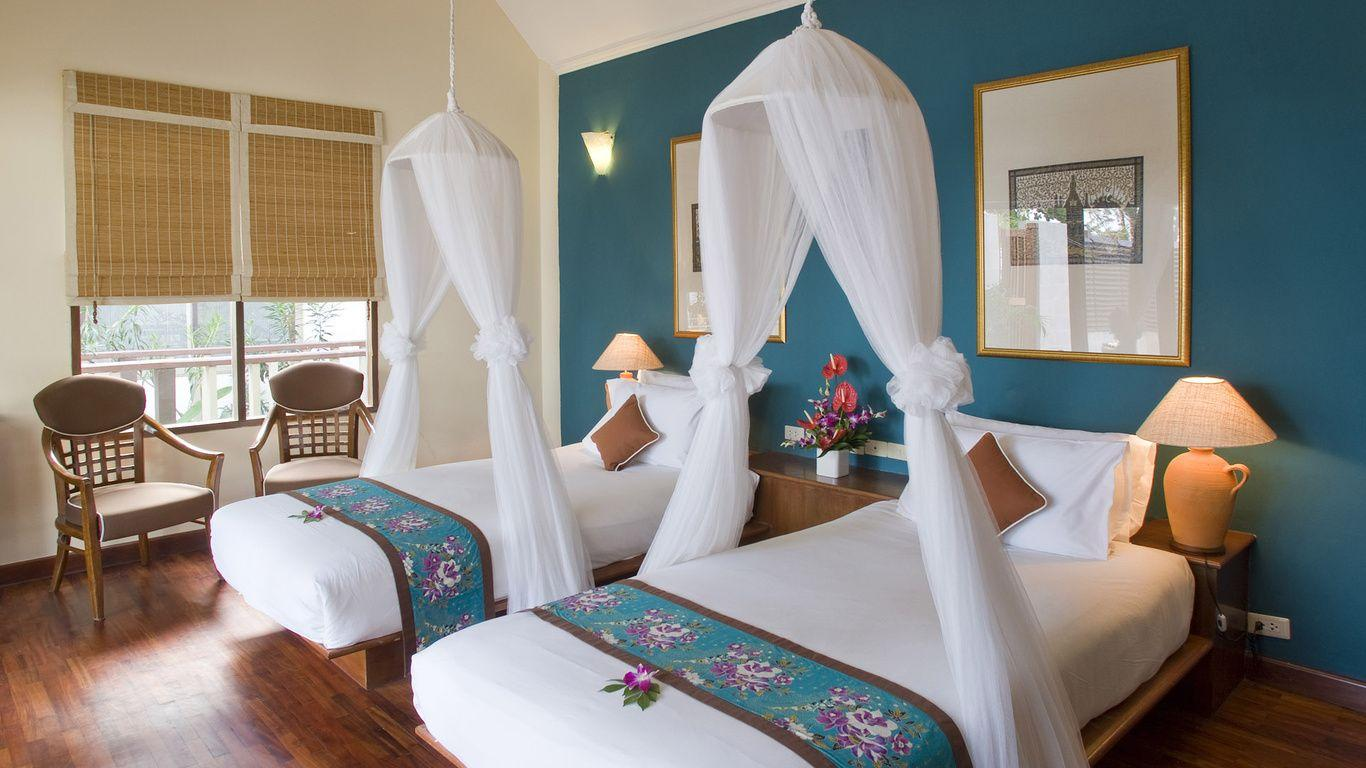bed: (772, 410, 1257, 768)
